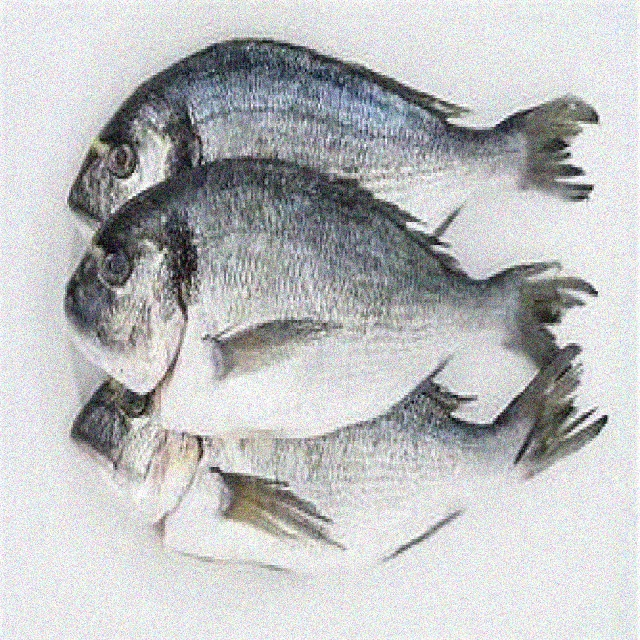Healthy Fish: (63, 37, 607, 575)
